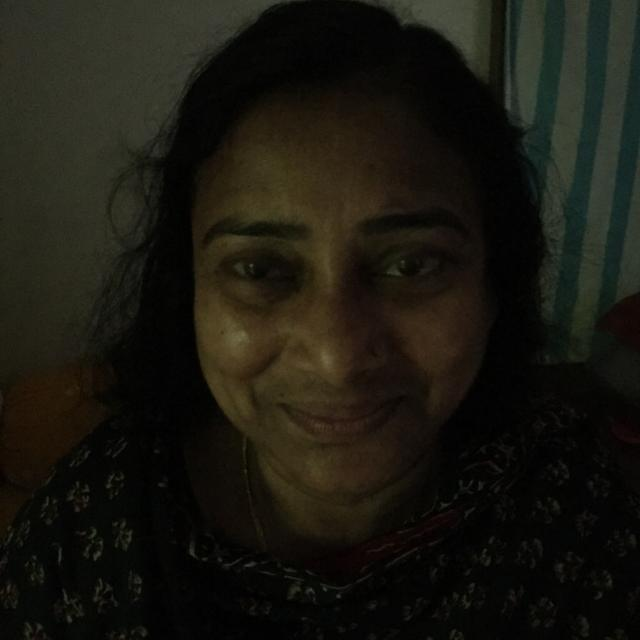Happy: (146, 83, 508, 508)
